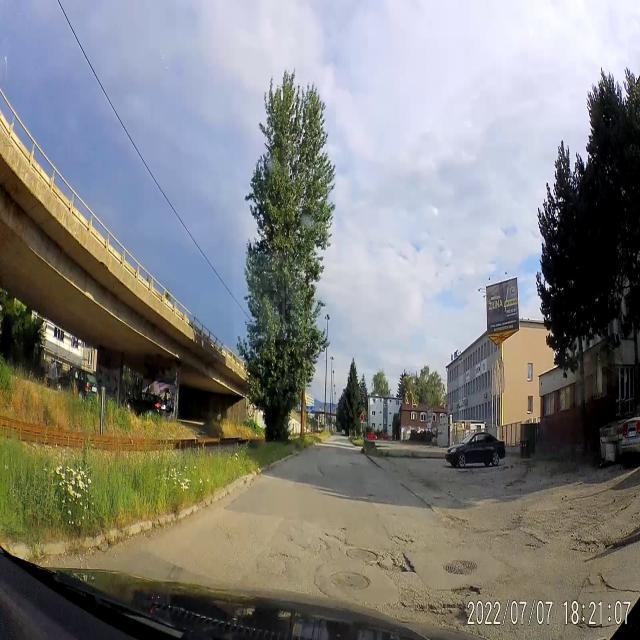Manhole: (440, 552, 478, 580), (331, 570, 372, 590), (346, 541, 380, 562)
Pothole: (395, 602, 473, 626), (384, 548, 419, 582), (450, 584, 480, 601)
